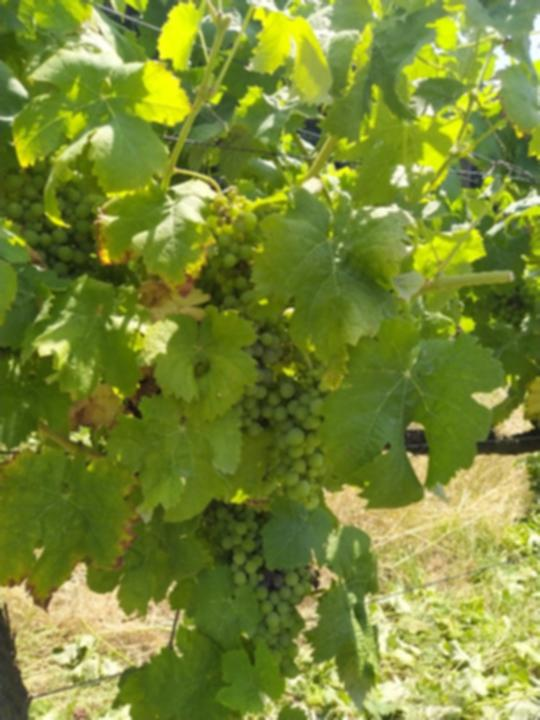grape: (203, 497, 319, 681), (195, 185, 295, 368), (1, 145, 107, 290), (259, 358, 334, 512)
